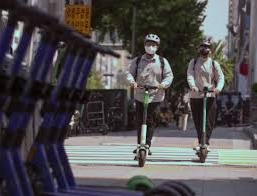helmet: (124, 32, 174, 167), (185, 40, 227, 164)
